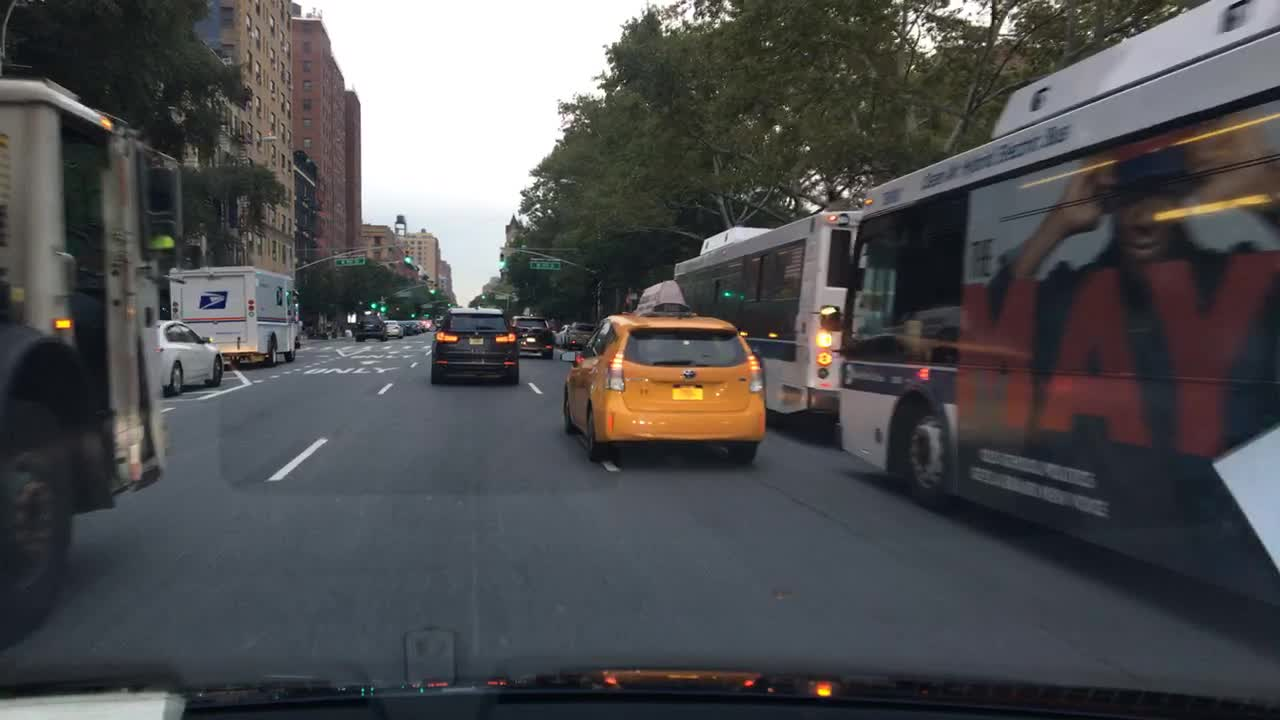bus: (836, 0, 1278, 610), (673, 209, 865, 442)
car: (561, 280, 767, 467), (430, 307, 520, 389), (156, 316, 224, 394), (511, 313, 554, 360), (351, 310, 388, 340), (565, 320, 597, 348), (309, 321, 340, 341), (551, 324, 571, 347), (383, 318, 404, 335), (434, 313, 447, 331), (415, 316, 429, 332), (402, 321, 416, 336), (368, 300, 380, 309)
traffic light: (426, 281, 437, 294), (404, 246, 411, 264), (497, 252, 505, 267), (478, 292, 488, 304), (406, 309, 416, 318)
traffic sign: (331, 254, 366, 267), (527, 258, 561, 271), (346, 309, 355, 324)
truck: (0, 72, 168, 640), (167, 265, 300, 367)
